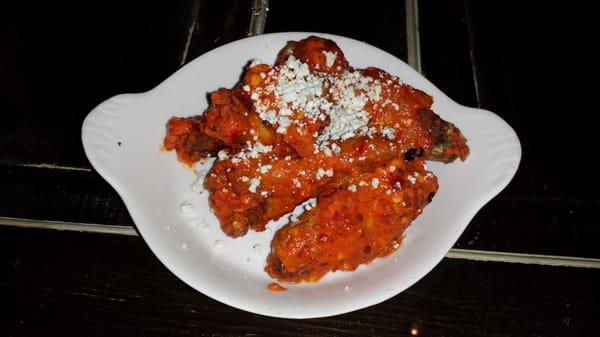sandwich: (160, 35, 470, 285)
